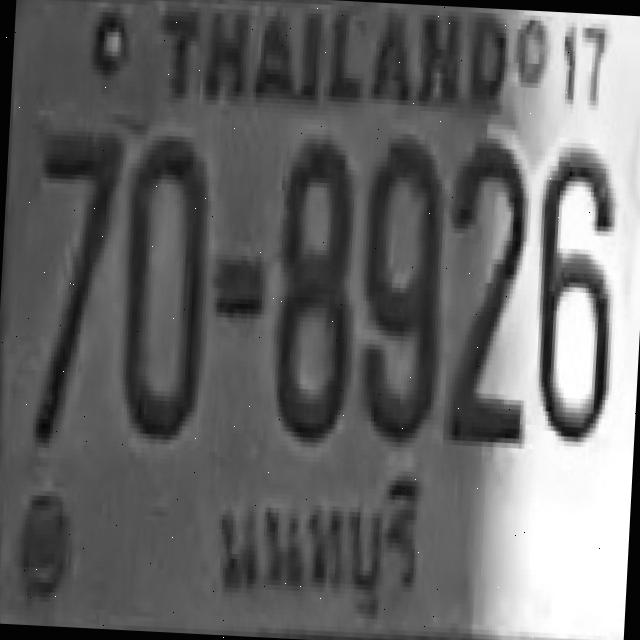0: (115, 132, 212, 438)
2: (440, 136, 534, 444)
6: (528, 141, 618, 438)
7: (27, 125, 119, 442)
8: (268, 137, 358, 439)
9: (353, 134, 445, 436)
Nonthaburi: (202, 462, 426, 628)
